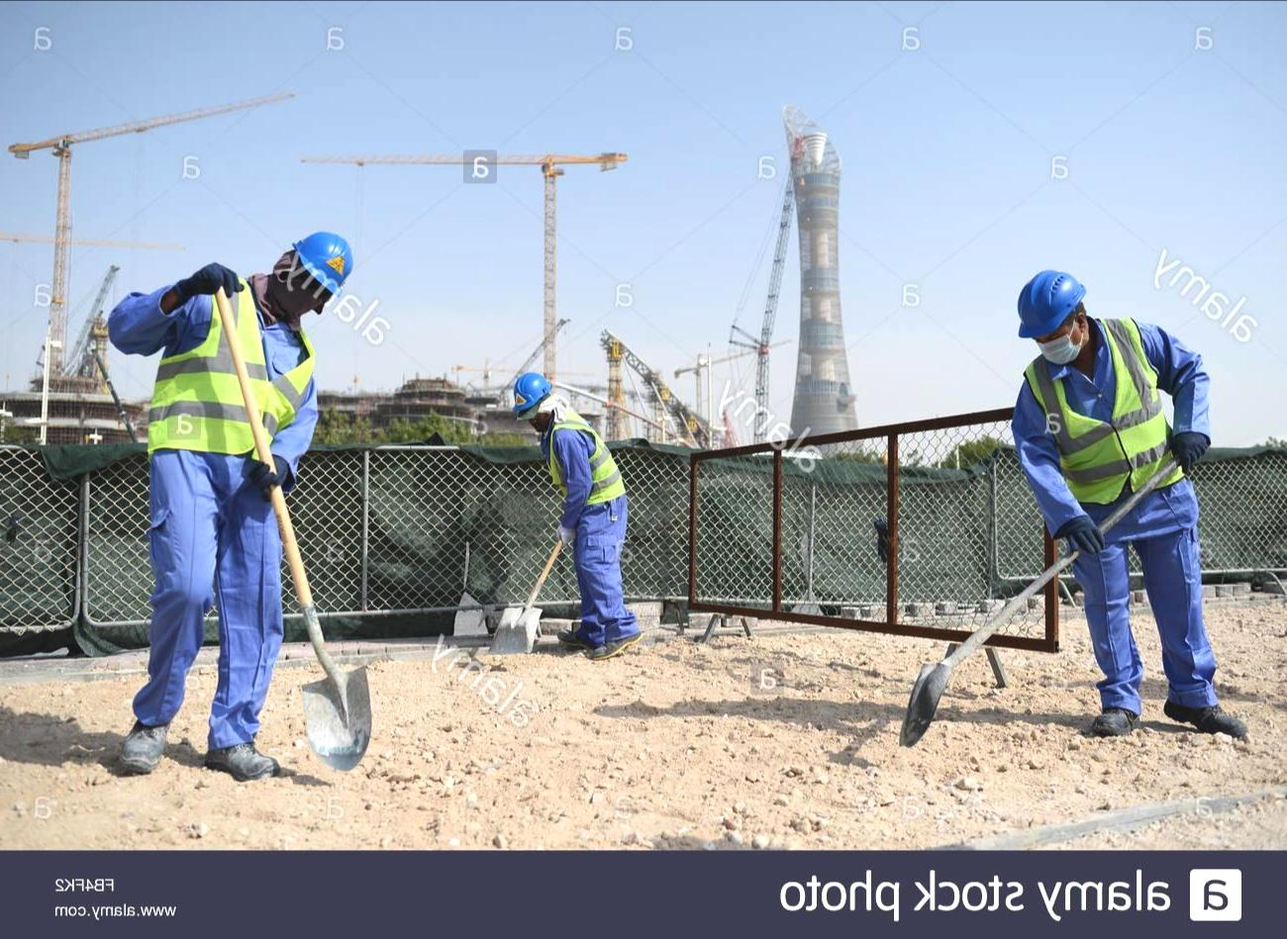helmet: (1011, 263, 1098, 344), (293, 227, 355, 293)
person: (95, 197, 365, 797), (993, 249, 1249, 759), (515, 348, 636, 656)
